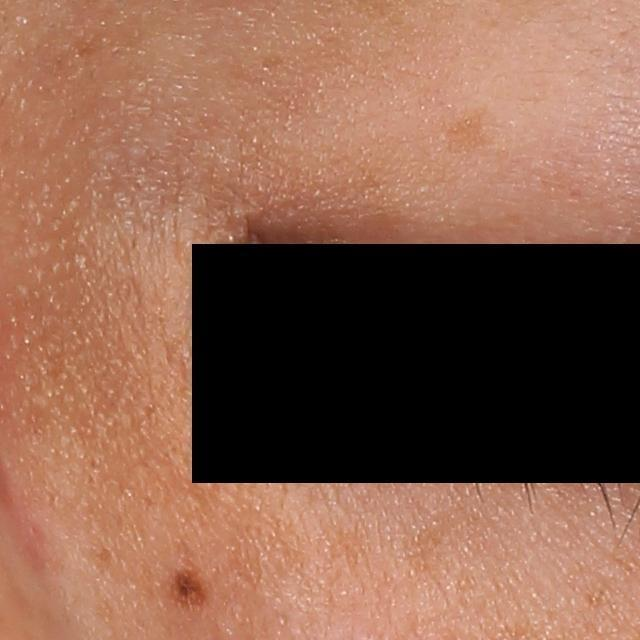melasma: (398, 521, 453, 579), (445, 105, 498, 160), (323, 524, 367, 577)
nevus: (167, 559, 210, 621)
